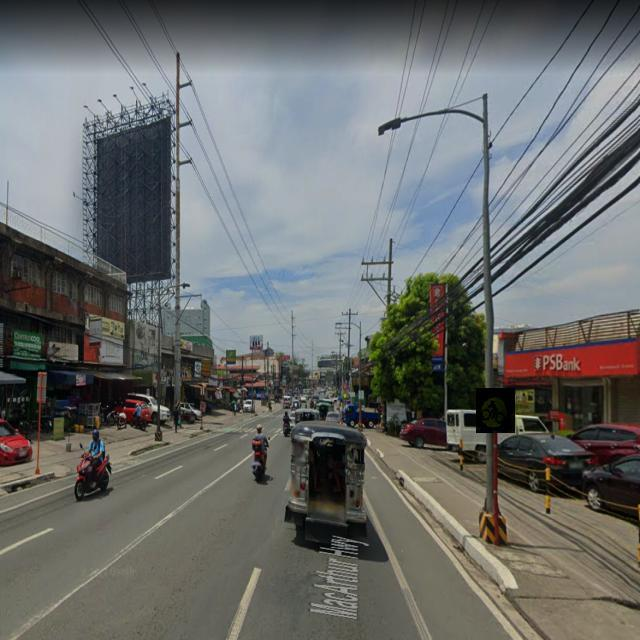bike lane: (476, 388, 515, 433)
